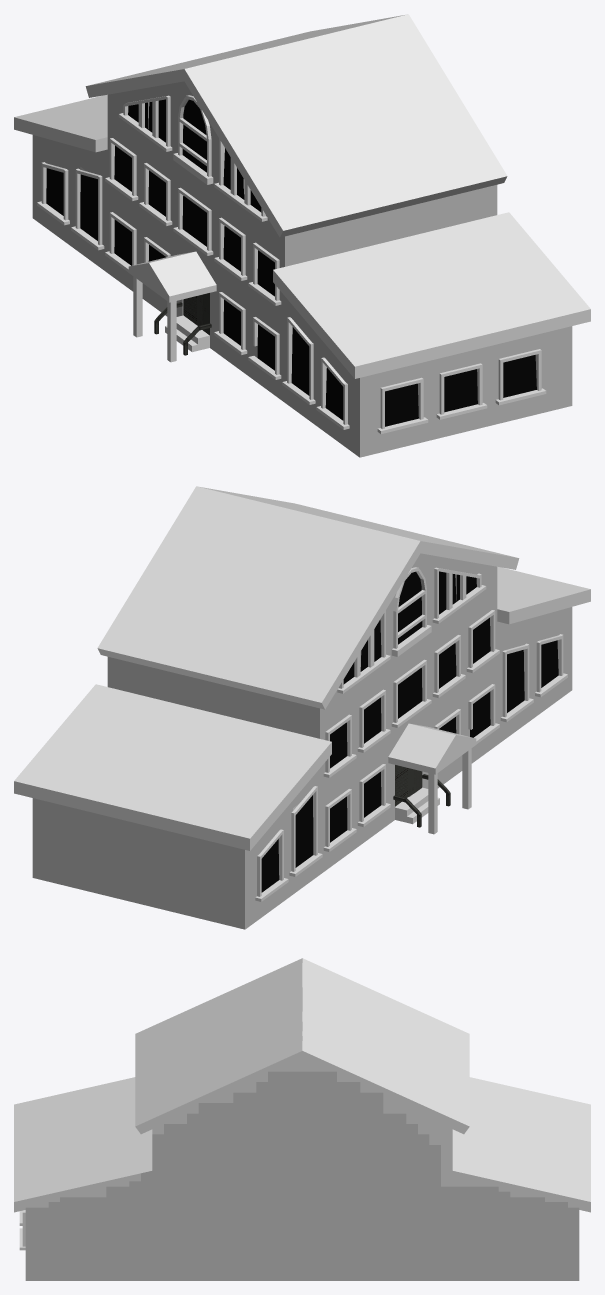
Rendered from school.fbx.
3 renders of one model, top to bottom at view 1: azimuth 30°, elevation 25°; view 2: azimuth 150°, elevation 25°; view 3: azimuth 270°, elevation 25°, orthographic. The views are drawn at different scales.
Parts seen in each view (by area): view 1: шк; view 2: шк; view 3: шк.
Boxes of the visible parts, <box> form: шк: <box>14,14,590,457</box>; шк: <box>14,486,590,929</box>; шк: <box>14,958,590,1280</box>.
Bounding box in the file's own units: 2300 × 2200 × 5000.
